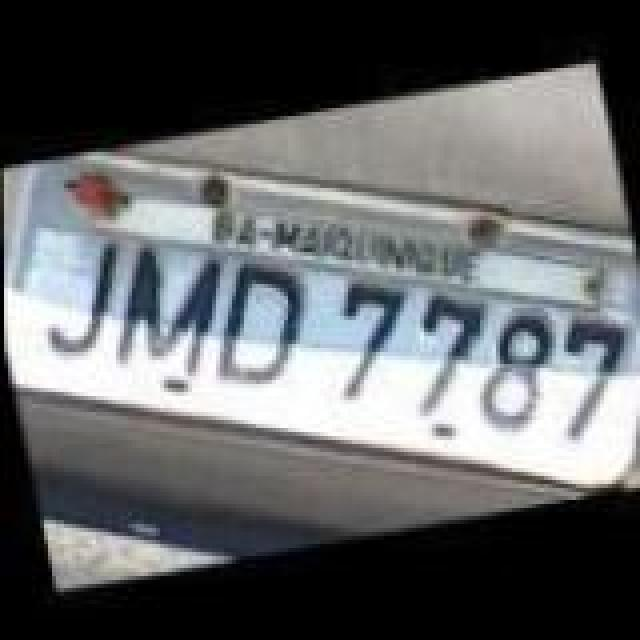7: (314, 270, 430, 410), (388, 286, 500, 418), (536, 312, 640, 444)
8: (454, 298, 570, 434)
D: (192, 252, 328, 396)
J: (24, 232, 144, 368)
M: (94, 230, 242, 386)
